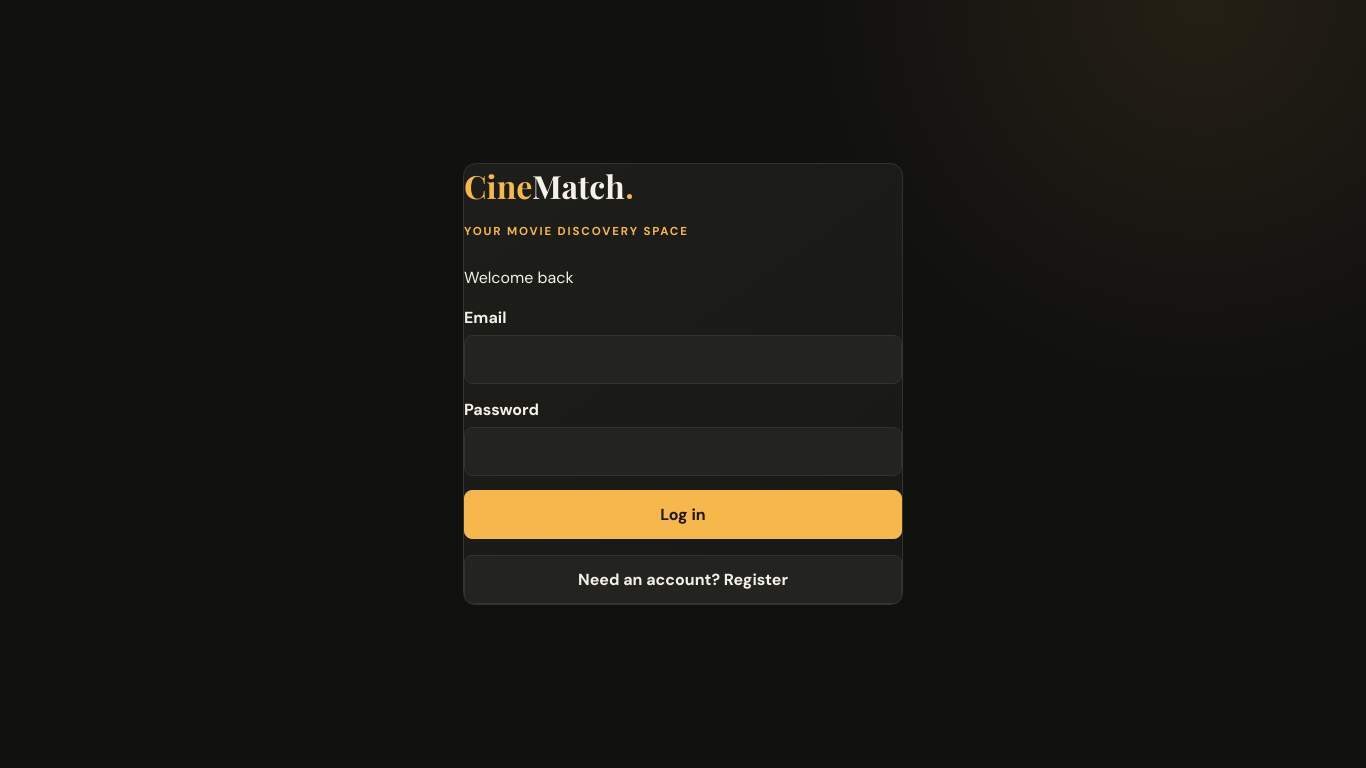
Test: CineMatch › requires authentication and registers a real account
Click the button "Need an account? Register": (683, 580) [464,555,902,604]
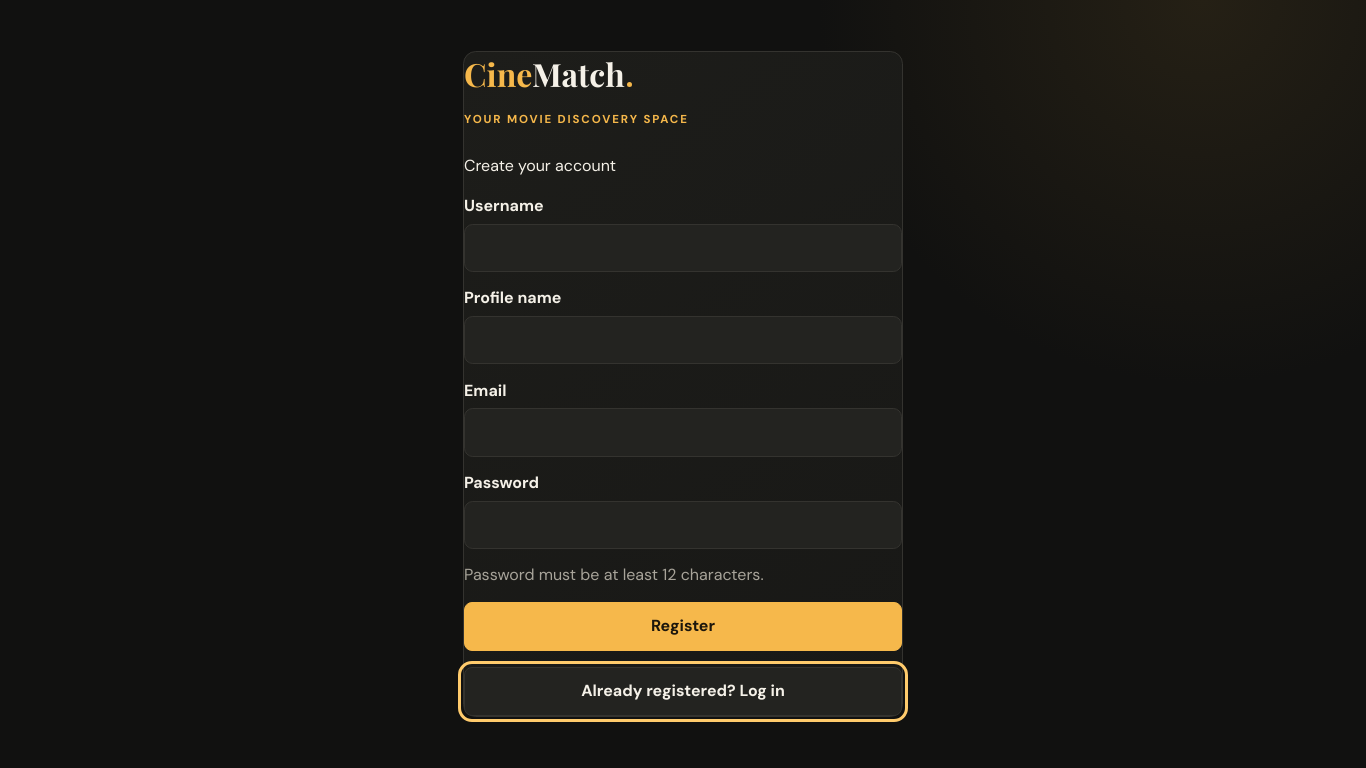
In the field labelled "Username": (683, 248) [464,224,902,272], type "maya"
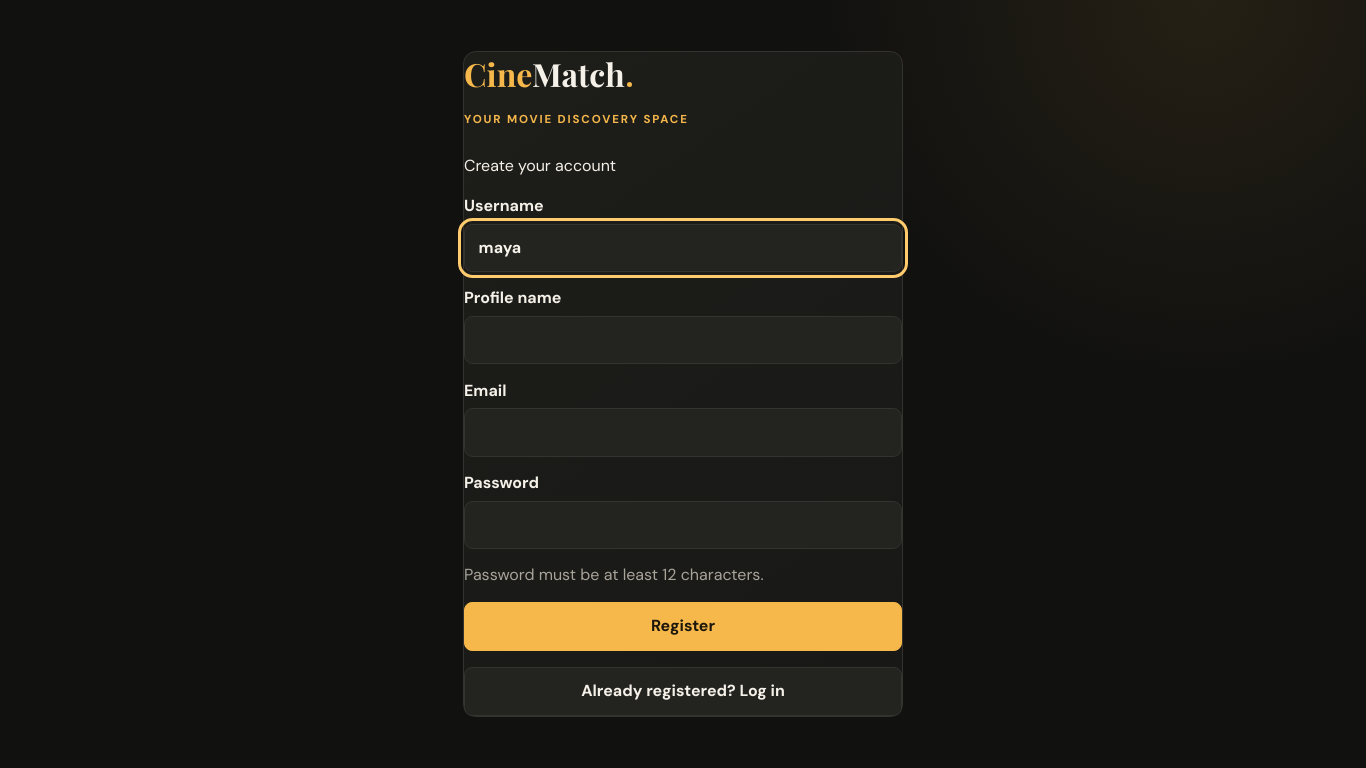
In the field labelled "Profile name": (683, 340) [464,316,902,364], type "Maya"
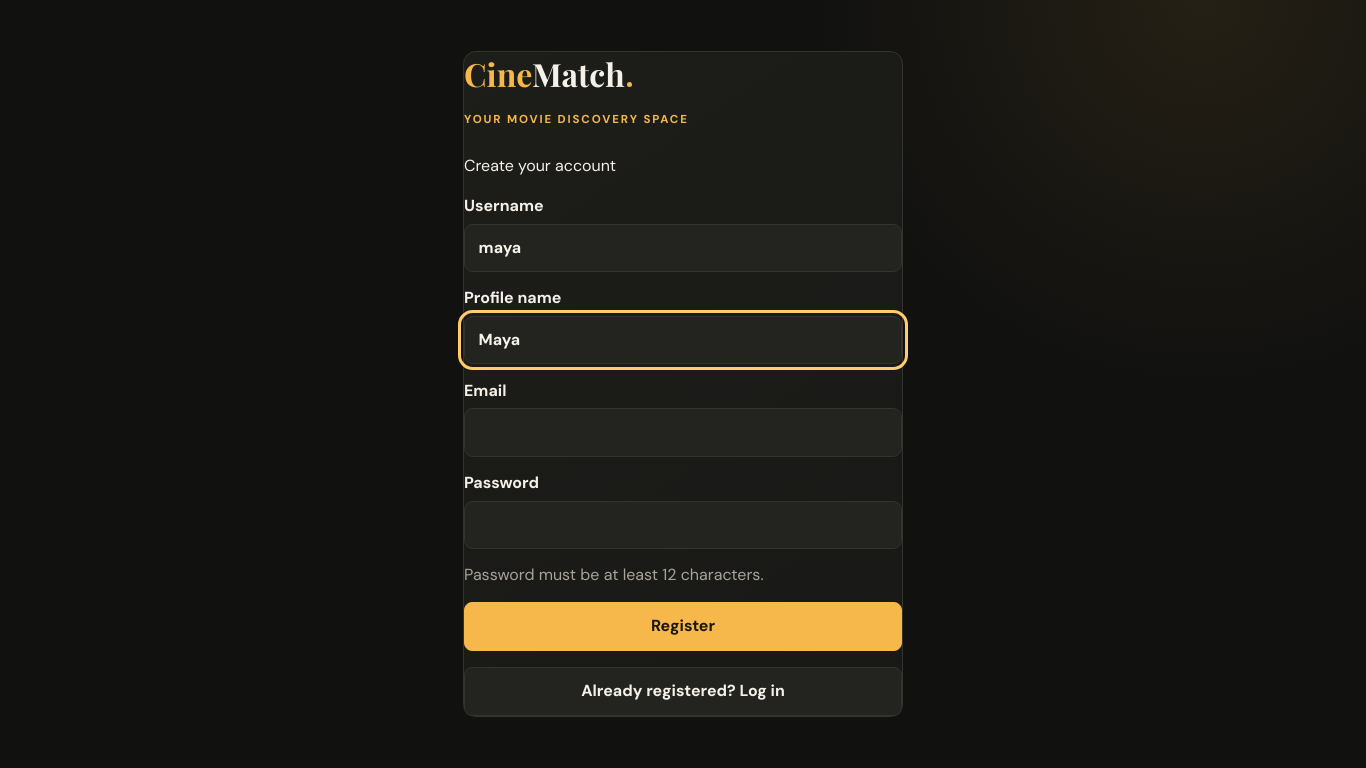
In the field labelled "Email": (683, 432) [464,408,902,457], type "maya@example.com"
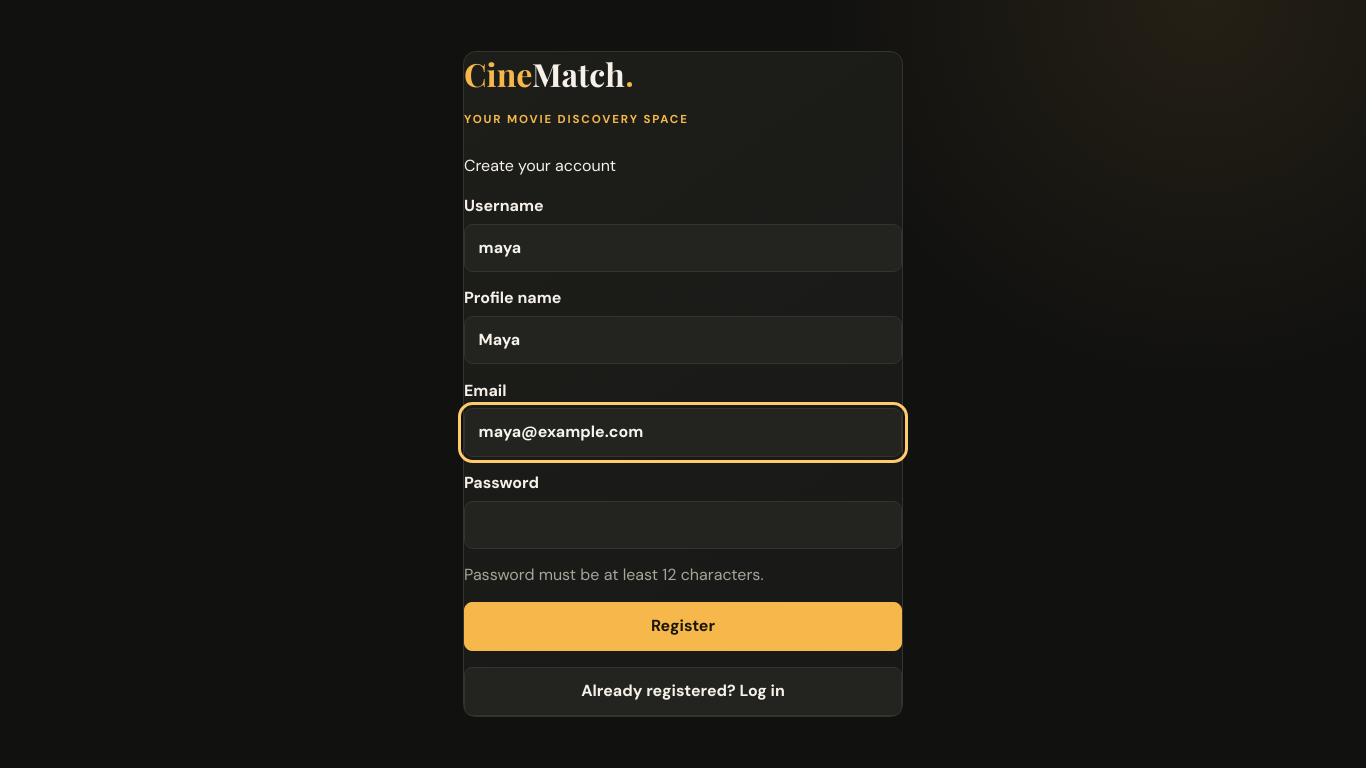
In the password field labelled "Password": (683, 525) [464,501,902,549], type "correct-horse-battery"
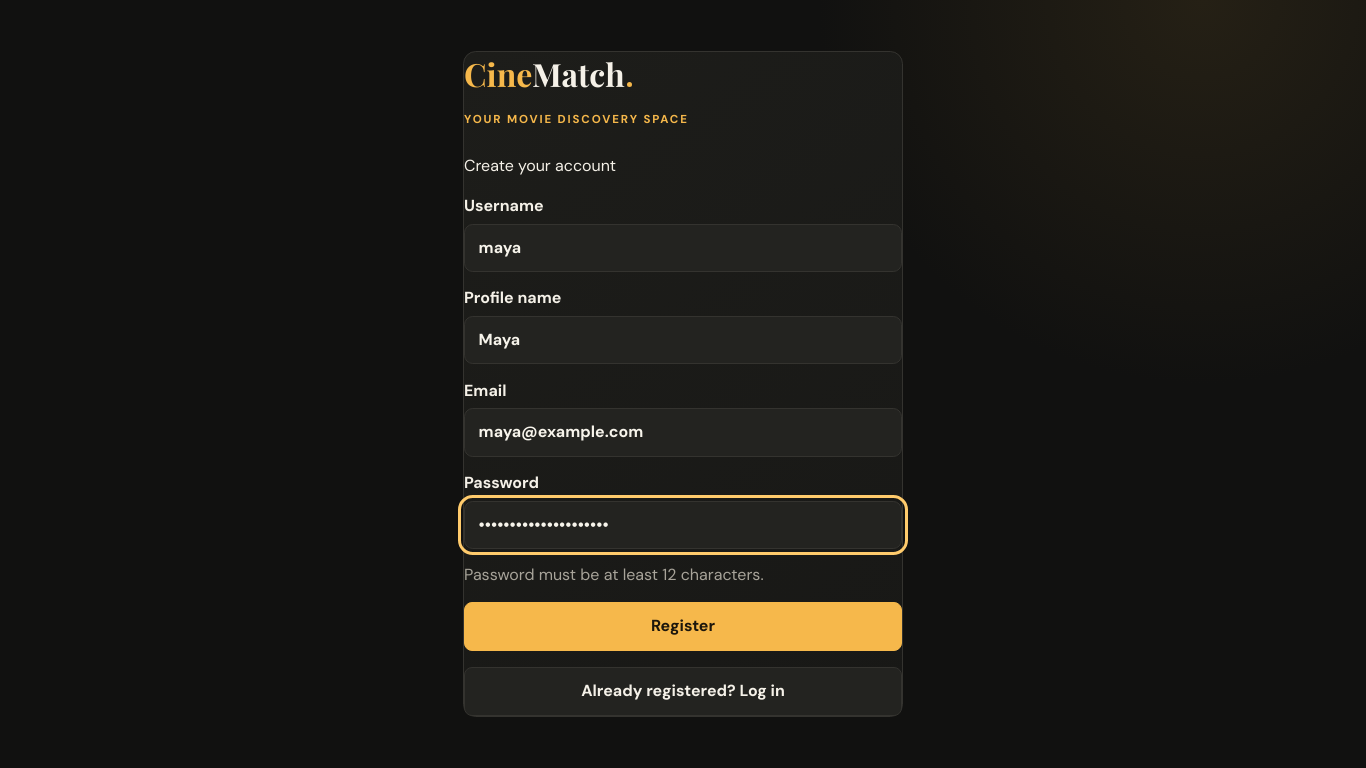
Click the button "Register": (683, 626) [464,602,902,651]
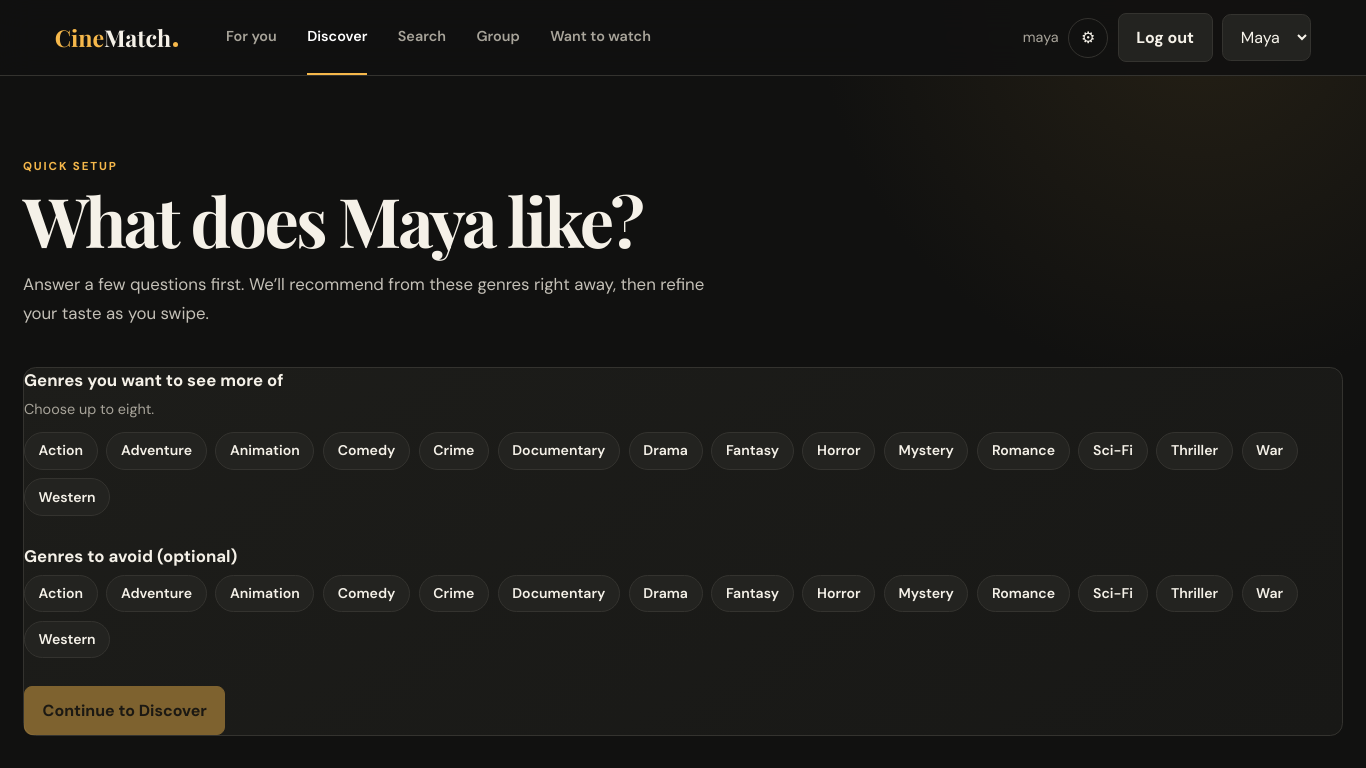
Expected: the heading "What does Maya like?" is shown, [23,185,743,255]
